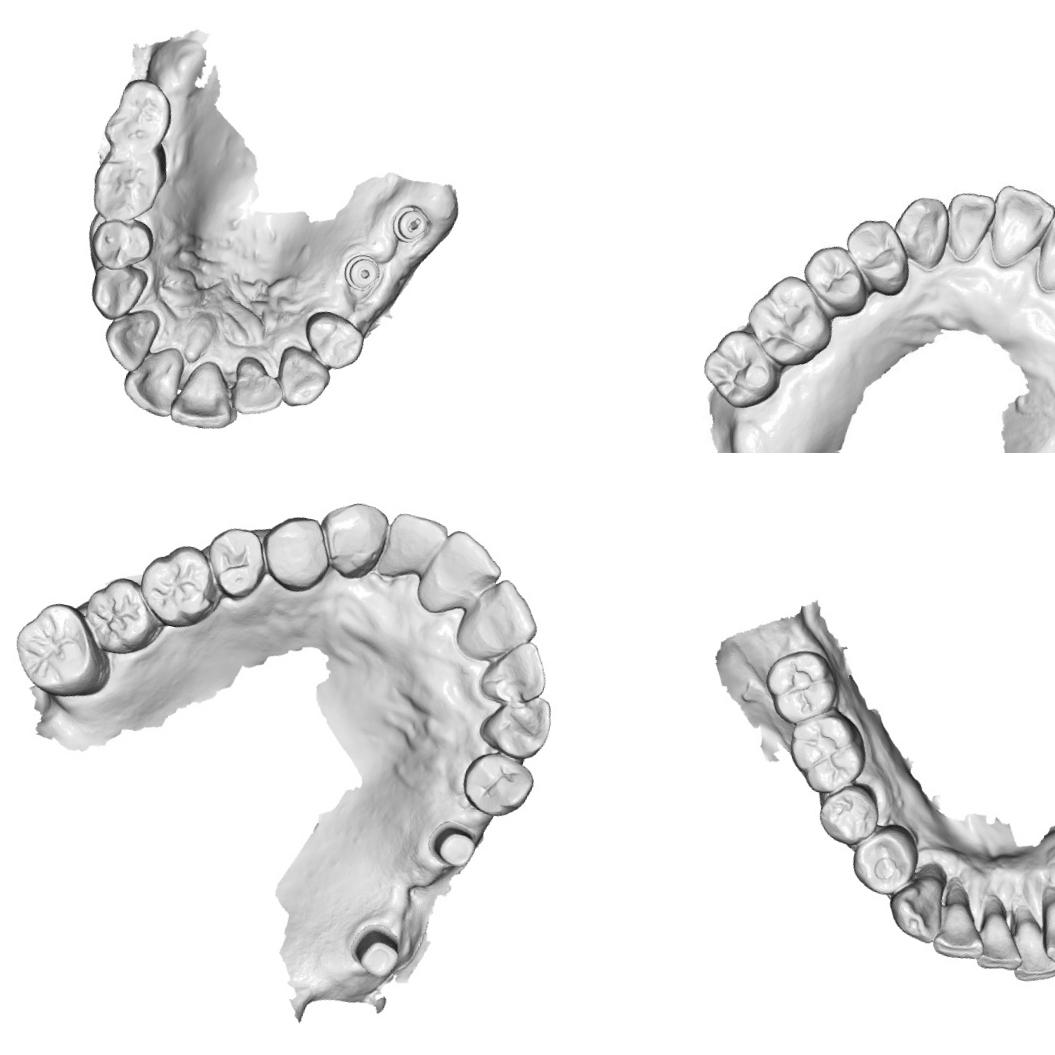abutment: (341, 917, 405, 984), (425, 819, 482, 874)
canine: (313, 489, 398, 586), (474, 685, 558, 766), (882, 864, 954, 948), (888, 188, 959, 272), (270, 342, 336, 414), (84, 259, 150, 327)
implant: (339, 250, 384, 296)
implant_minus: (387, 200, 436, 248)
incisor: (409, 520, 515, 627), (453, 570, 549, 673), (979, 181, 1055, 277), (376, 498, 456, 589), (166, 355, 242, 435), (478, 632, 556, 706), (118, 338, 188, 420), (97, 300, 164, 376), (936, 188, 996, 268), (225, 354, 291, 423), (930, 894, 992, 964), (974, 907, 1030, 975), (1008, 919, 1055, 988), (1026, 207, 1055, 301), (1029, 890, 1055, 968)
molar: (4, 592, 118, 708), (734, 266, 840, 372), (131, 535, 231, 637), (69, 568, 168, 664), (779, 704, 874, 803), (696, 321, 793, 417), (756, 642, 846, 734), (84, 144, 172, 230), (98, 70, 180, 160)
premolar: (253, 504, 338, 597), (792, 236, 878, 324), (834, 212, 917, 300), (454, 746, 542, 824), (844, 818, 924, 902), (198, 520, 272, 606), (812, 777, 884, 853), (296, 306, 370, 375), (86, 211, 158, 278)
